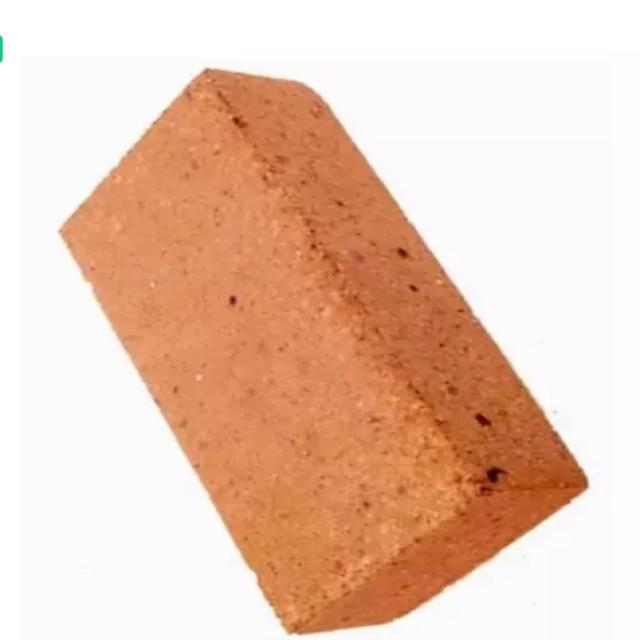bricks: (58, 68, 594, 638)
